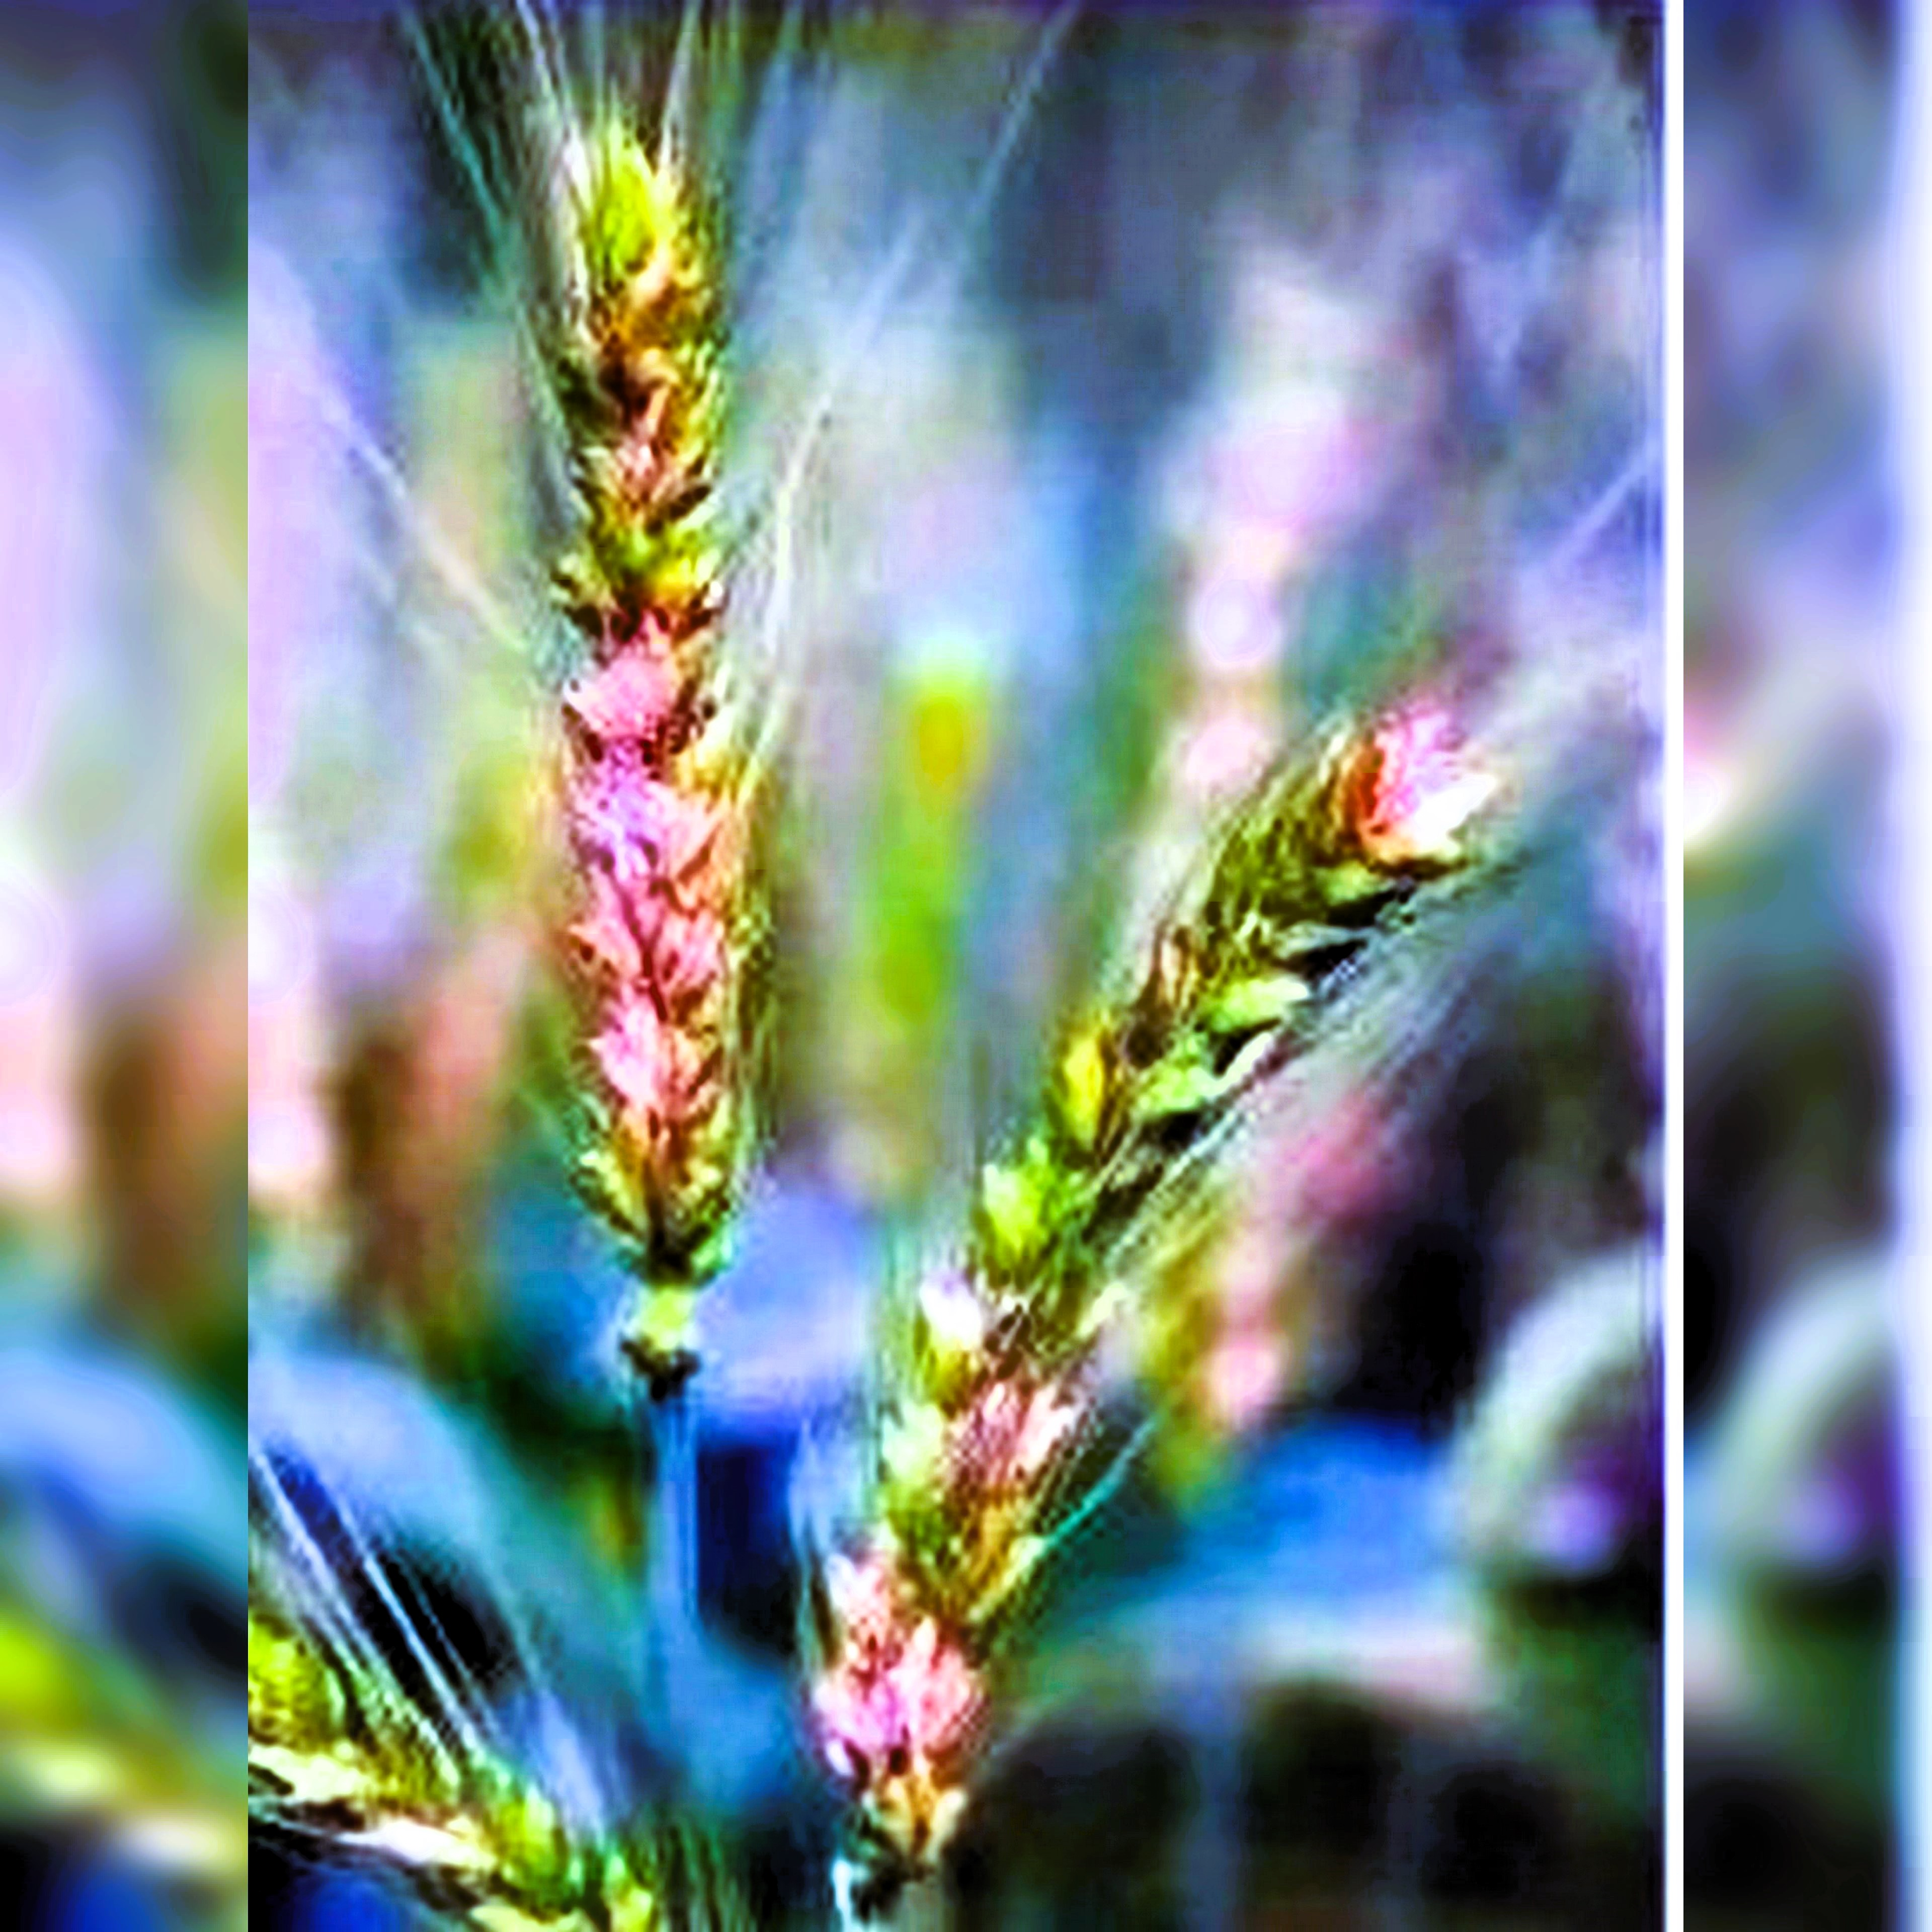Wheat scab: (478, 133, 805, 1265)
